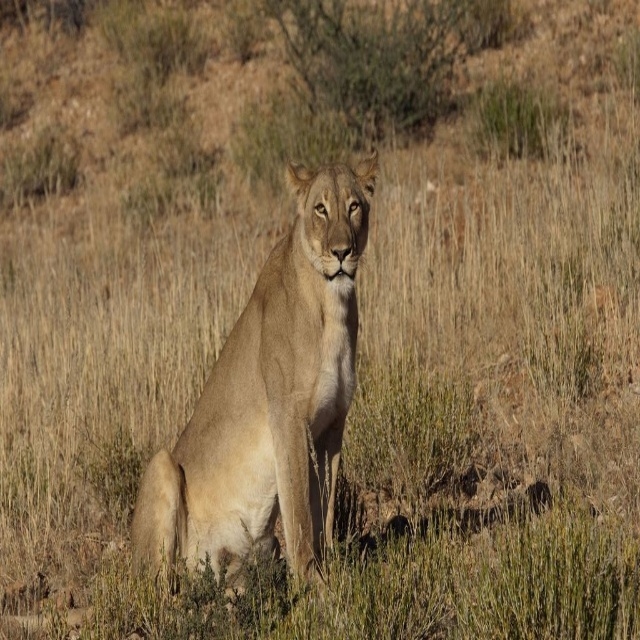Lion: (131, 150, 381, 608)
